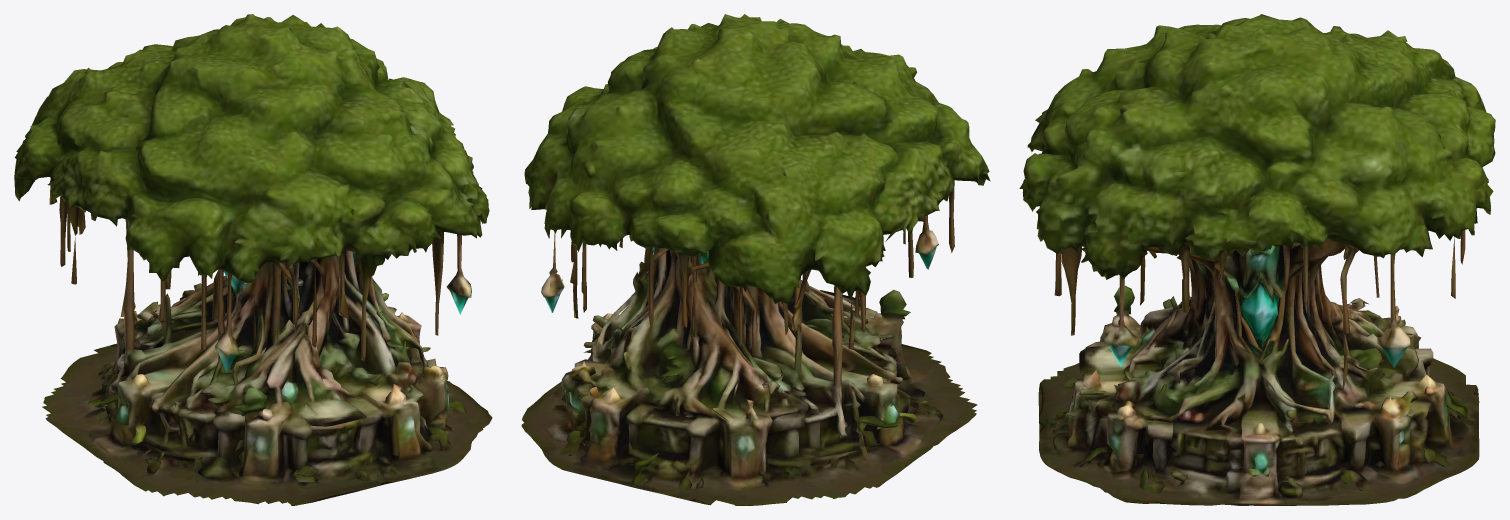
File: grassland-tower-3.glb
The picture shows the model from 3 angles, left to right: view 1: azimuth 30°, elevation 25°; view 2: azimuth 150°, elevation 25°; view 3: azimuth 270°, elevation 25°; orthographic projection. The views are drawn at different scales.
Parts seen in each view (by area): view 1: tripo_node_b89ae686-2652-4370-af17-5eee59b3719a; view 2: tripo_node_b89ae686-2652-4370-af17-5eee59b3719a; view 3: tripo_node_b89ae686-2652-4370-af17-5eee59b3719a.
Part boxes in pixels (x1=…): tripo_node_b89ae686-2652-4370-af17-5eee59b3719a: x1=14, y1=14, x2=492, y2=505; tripo_node_b89ae686-2652-4370-af17-5eee59b3719a: x1=521, y1=14, x2=990, y2=505; tripo_node_b89ae686-2652-4370-af17-5eee59b3719a: x1=1019, y1=14, x2=1495, y2=505.
Size of the model in its own units: 0.9202 by 0.9066 by 1.
Materials: 1 (1 with a texture image).
